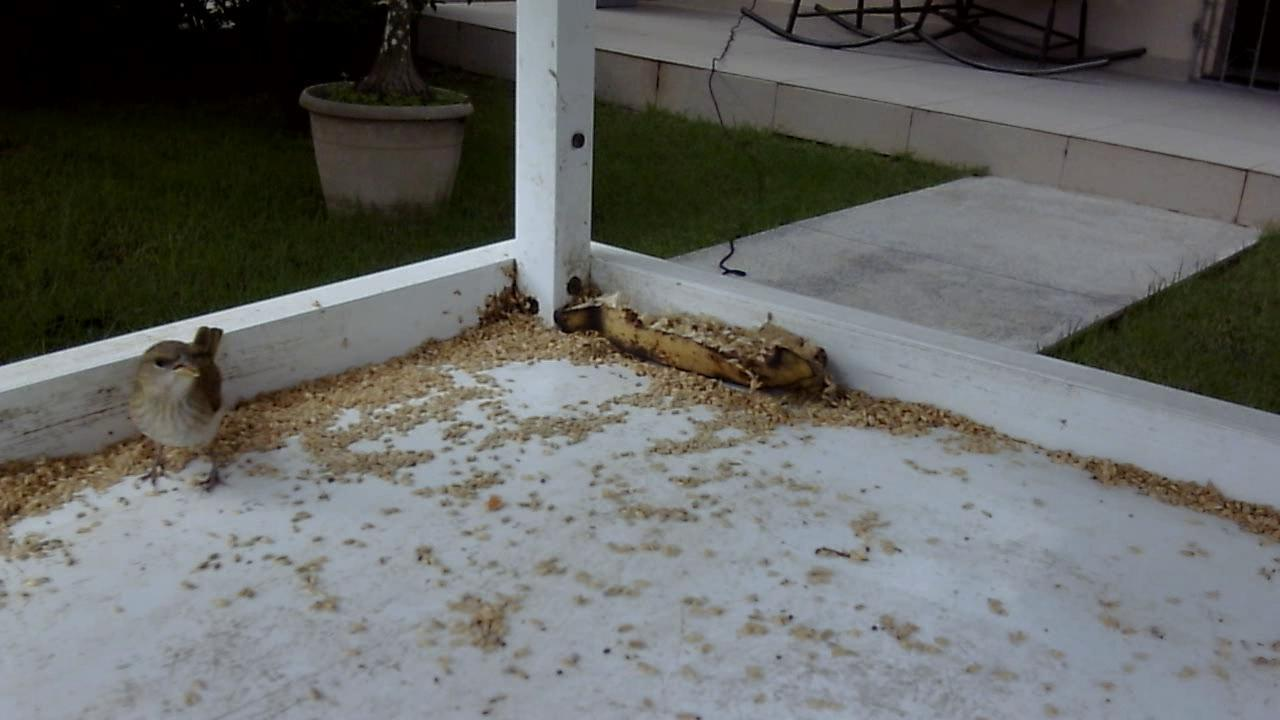canario_do_amazonas: (118, 318, 247, 505)
